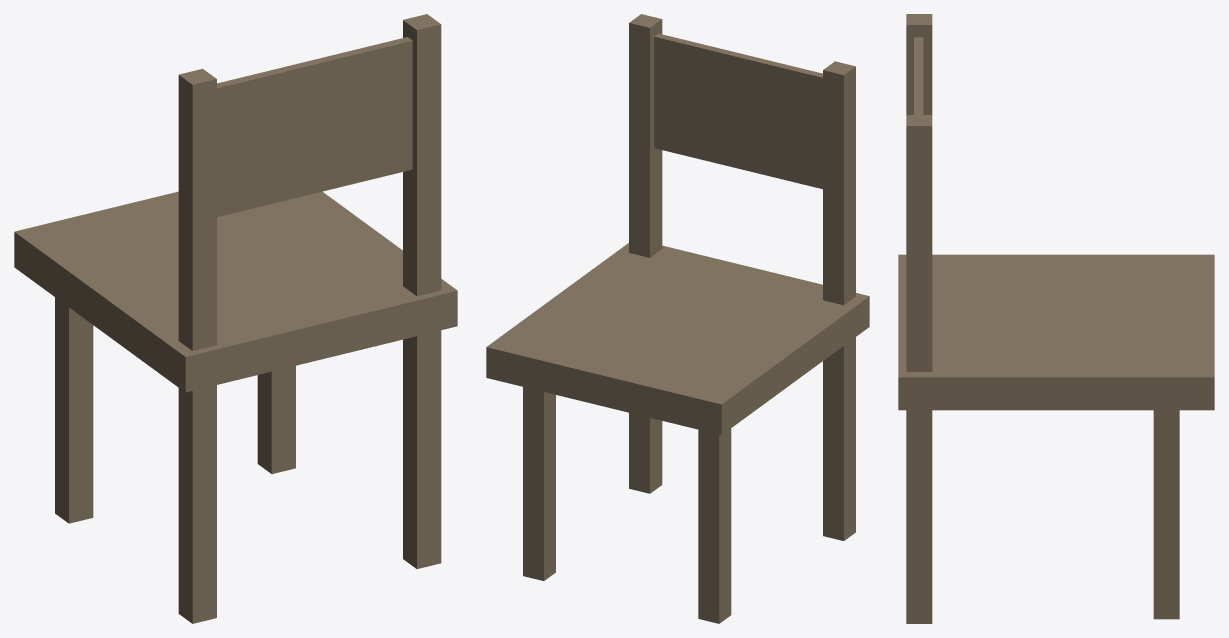
File: isu.fbx
3 views of the same model, side by side, from view 1: azimuth 30°, elevation 25°; view 2: azimuth 150°, elevation 25°; view 3: azimuth 270°, elevation 25° (orthographic). The views are drawn at different scales.
Visible parts, largest first — view 1: pCube3, pCube4, pasted__pasted__pasted__pCube2 (×2), pasted__pasted__pasted__pasted__pCube2, pasted__pasted__pCube2; view 2: pCube3, pasted__pasted__pasted__pCube2 (×2), pCube4, pasted__pasted__pasted__pasted__pCube2, pasted__pasted__pCube2; view 3: pCube3, pasted__pasted__pasted__pasted__pCube2, pasted__pasted__pasted__pCube2 (×2), pCube4.
Part boxes in pixels (left/top/right/bottom): pCube3: left=14, top=191, right=457, bottom=392; pCube4: left=217, top=37, right=412, bottom=217; pasted__pasted__pasted__pCube2 (×2): left=178, top=68, right=295, bottom=623; pasted__pasted__pasted__pasted__pCube2: left=403, top=14, right=441, bottom=568; pasted__pasted__pCube2: left=55, top=297, right=93, bottom=523; pCube3: left=486, top=243, right=869, bottom=435; pasted__pasted__pasted__pCube2 (×2): left=523, top=61, right=855, bottom=580; pCube4: left=654, top=33, right=822, bottom=189; pasted__pasted__pasted__pasted__pCube2: left=629, top=14, right=662, bottom=493; pasted__pasted__pCube2: left=698, top=428, right=731, bottom=623; pCube3: left=898, top=254, right=1214, bottom=410; pasted__pasted__pasted__pasted__pCube2: left=906, top=115, right=932, bottom=623; pasted__pasted__pasted__pCube2 (×2): left=906, top=14, right=1179, bottom=619; pCube4: left=914, top=37, right=923, bottom=114.
Size of the model in its own units: 0.5624 by 1.06 by 0.6132.
